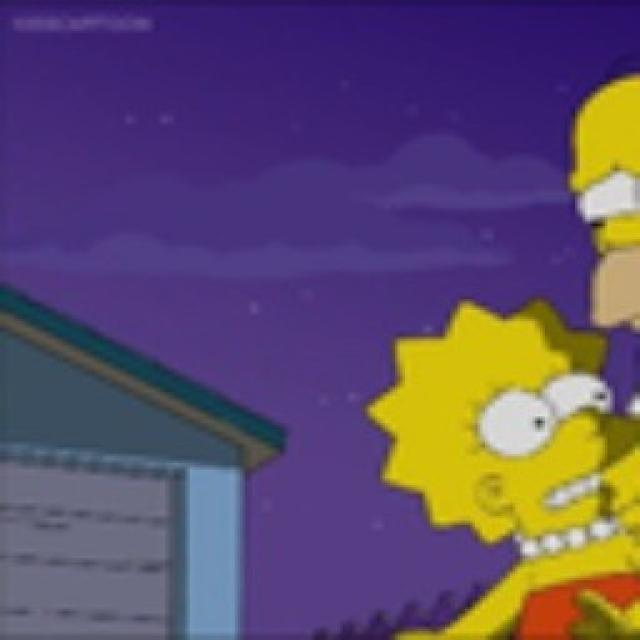Homer Simpson: (567, 66, 640, 327)
Lisa Simpson: (370, 306, 640, 558)
